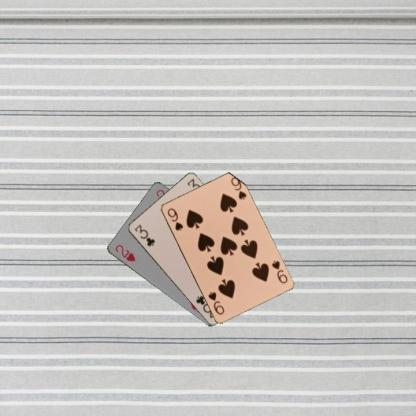2h: (113, 242, 136, 264)
3c: (132, 222, 156, 248)
9s: (165, 205, 184, 232), (269, 258, 288, 285)
